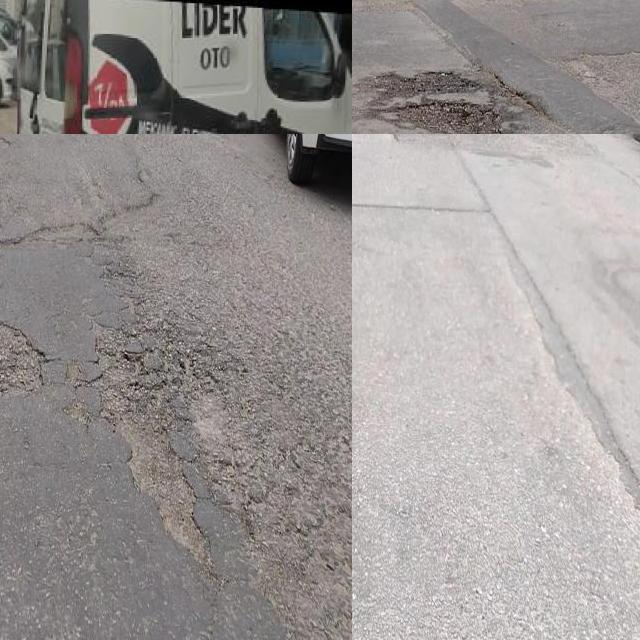Pothole: (108, 404, 215, 562), (392, 105, 503, 134), (0, 316, 39, 390), (375, 70, 472, 96)
Unmarked Bump: (411, 0, 640, 134)
